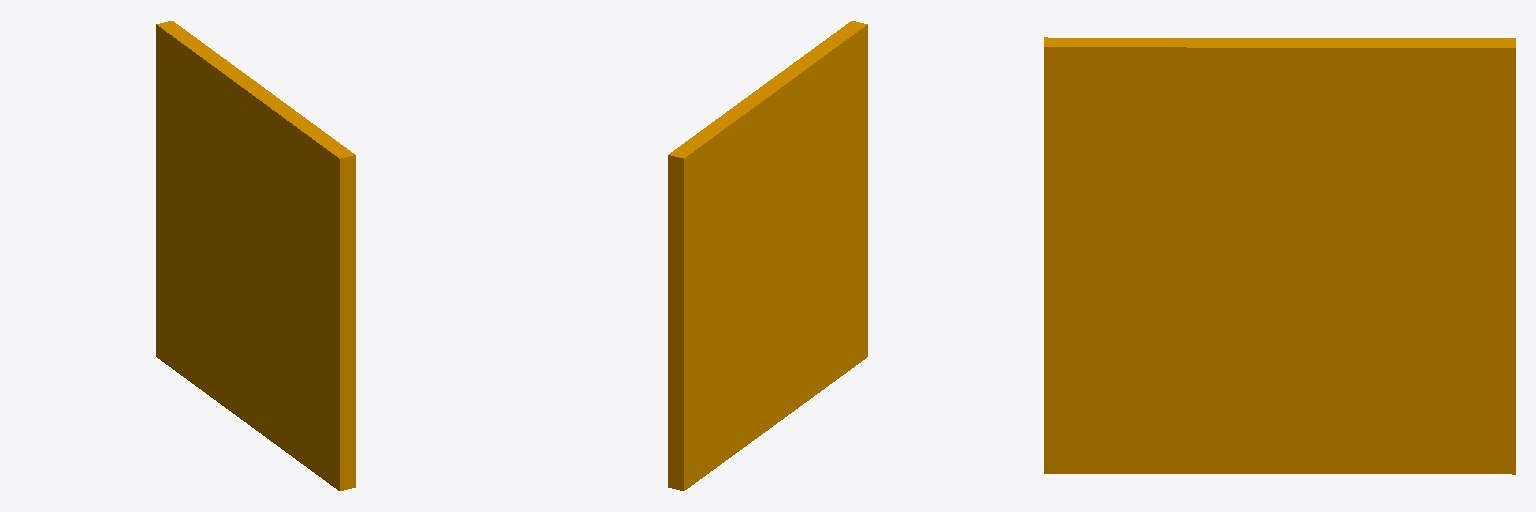
robot.urdf — simple_box:
<robot name="simple_box">
  <link name="apriltag">
    <inertial>
      <origin
        xyz="10 0 1"
        rpy="0 0 1.57" />
      <mass value="1.0" />
      <inertia  ixx="1.0" ixy="0.0"  ixz="0.0"  iyy="1.0"  iyz="0.0"  izz="1.0" />
      <gravity>false</gravity>
      <static>true</static>
    </inertial>
    <visual>
      <origin
        xyz="10 0 1"
        rpy="0 0 1.57" />
      <geometry>
        <box size="1 0.05 1" />
      </geometry>
    </visual>
    <collision>
      <origin
        xyz="10 0 1"
        rpy="0 0 1.57" />
      <geometry>
        <box size="1 0.05 1" />
      </geometry>
    </collision>
          <velocity>0 0 0 0 -0 0</velocity>
          <acceleration>0 0 0 0 -0 0</acceleration>
          <wrench>0 0 0 0 -0 0</wrench>
  </link>
  <gazebo reference="apriltag">
    <material>marker</material>
    <static>true</static>
    <turnGravityOff>true</turnGravityOff>
  </gazebo>

</robot>

--- Render facts (derived) ---
Views: 3 orthographic renders of the robot side by side, from view 1: azimuth 30°, elevation 25°; view 2: azimuth 150°, elevation 25°; view 3: azimuth 270°, elevation 25°.
Robot: simple_box — 1 links, 0 joints (none); root link apriltag; default pose: all joints at 0.
Links seen in each view (by area): view 1: apriltag; view 2: apriltag; view 3: apriltag.
Boxes of the visible links, bbox=[...] form: apriltag: bbox=[156, 21, 355, 490]; apriltag: bbox=[668, 21, 867, 490]; apriltag: bbox=[1044, 37, 1515, 474].
Size in the robot's own frame: 0.0508 by 1 by 1 metres.
Geometry: primitives only (box / cylinder / sphere), no mesh files.